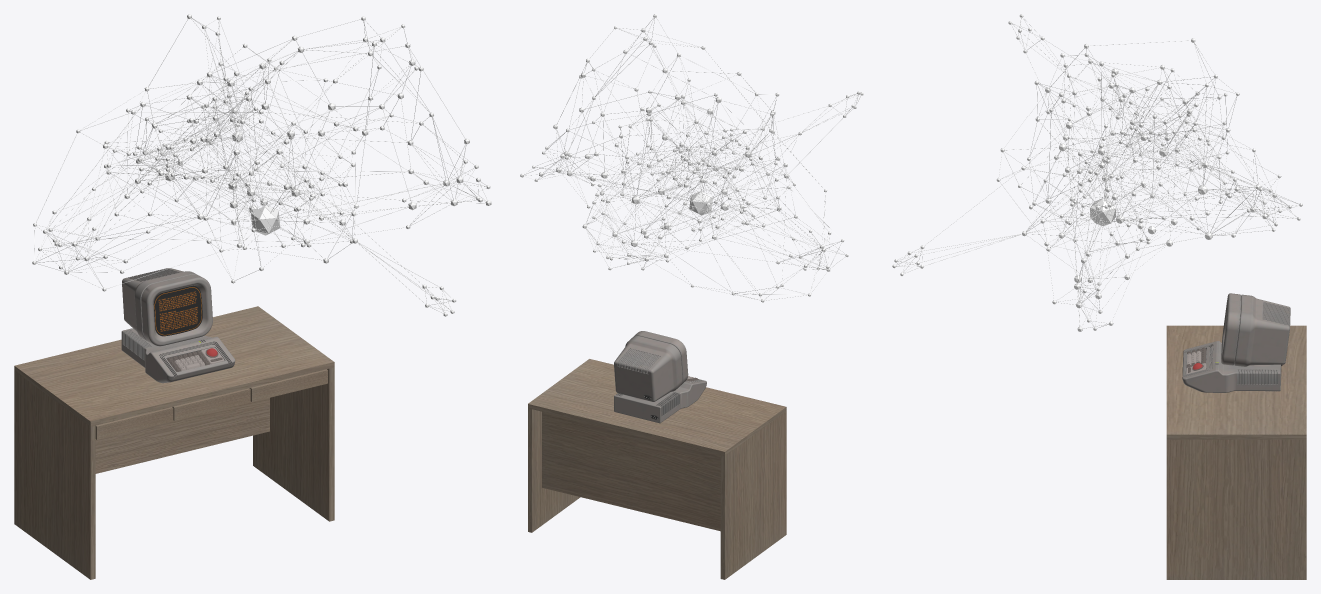
The model's file is digifront.glb.
The picture shows the model from 3 angles, left to right: view 1: azimuth 30°, elevation 25°; view 2: azimuth 150°, elevation 25°; view 3: azimuth 270°, elevation 25°; orthographic projection. The views are drawn at different scales.
Visible parts, largest first — view 1: Cube_0, Default, defaultMaterial, defaultMaterial_1; view 2: Cube_0, Default, defaultMaterial; view 3: Cube_0, Default, defaultMaterial.
Boxes of the visible parts, x1,y1,x2,y2 form: Cube_0: (14,306,334,579); Default: (32,14,491,316); defaultMaterial: (121,268,235,383); defaultMaterial_1: (153,285,224,371); Cube_0: (528,359,786,579); Default: (520,14,863,302); defaultMaterial: (614,331,706,423); Cube_0: (1166,325,1306,579); Default: (892,14,1302,331); defaultMaterial: (1182,293,1290,392).
Bounding box in the file's own units: 8.15 × 10.36 × 7.7.
Materials: 4 (3 with a texture image).
